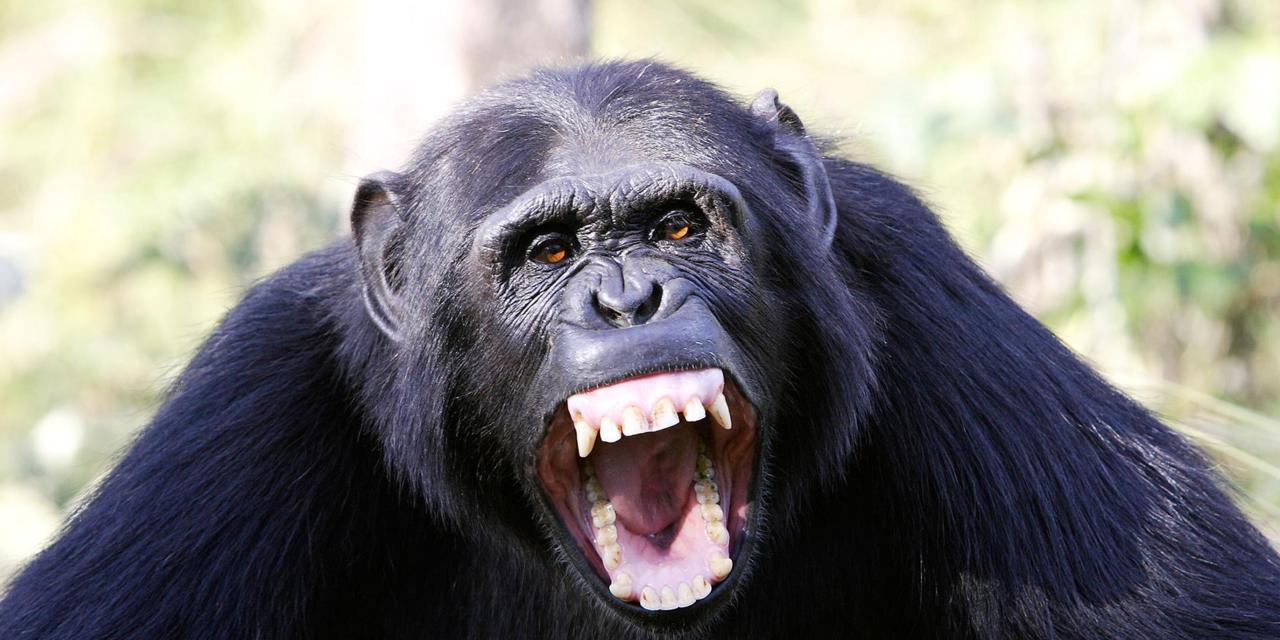Chimpanzee: (349, 61, 927, 613)
